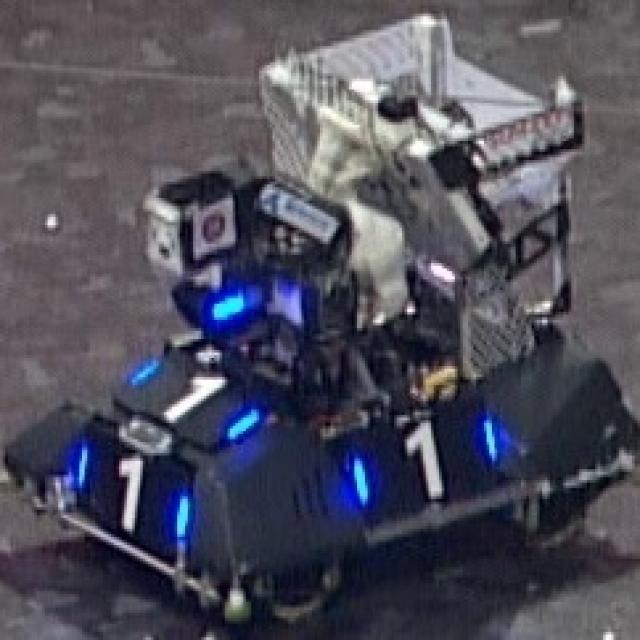B1: (347, 412, 497, 507), (130, 355, 264, 442), (72, 442, 190, 540)
